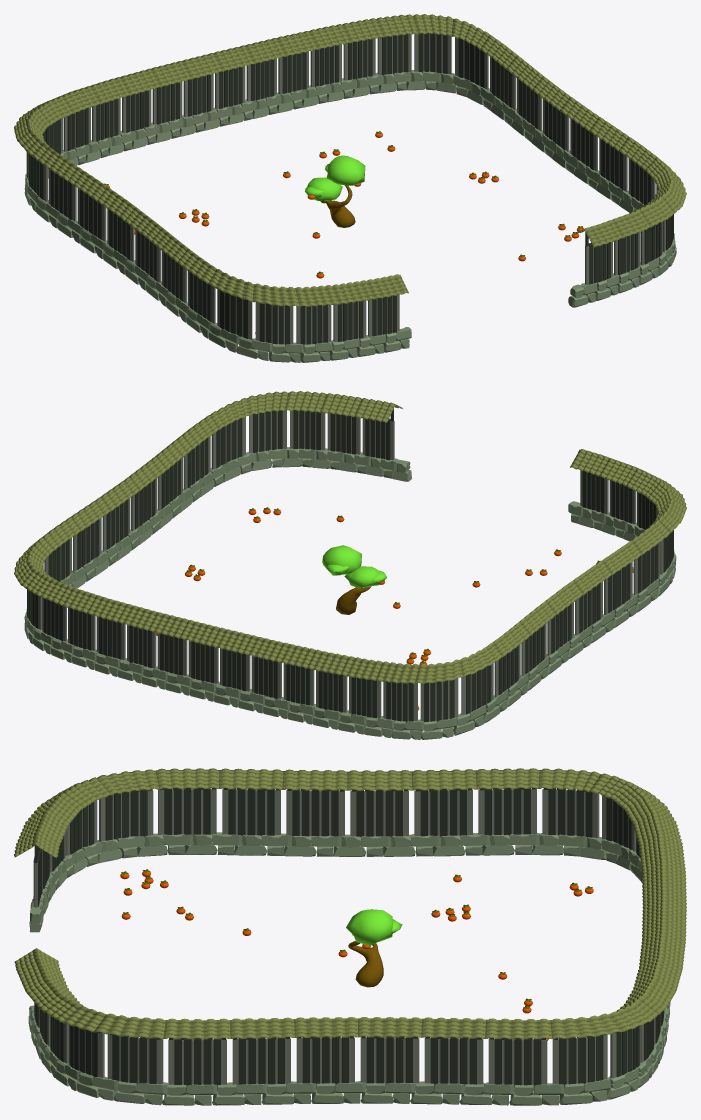
File: FoodM2.fbx
3 renders of one model, top to bottom at view 1: azimuth 30°, elevation 25°; view 2: azimuth 150°, elevation 25°; view 3: azimuth 270°, elevation 25°, orthographic. The views are drawn at different scales.
Visible parts, largest first — view 1: WallLvl2Top.003, RockWallbase.002, BonsaiM2, Persimmons; view 2: WallLvl2Top.003, RockWallbase.002, BonsaiM2, Persimmons; view 3: WallLvl2Top.003, RockWallbase.002, BonsaiM2, Persimmons.
Part boxes in pixels (box(x1,y1,x2,y2)): WallLvl2Top.003: box(14, 14, 686, 348); RockWallbase.002: box(24, 70, 676, 362); BonsaiM2: box(305, 155, 365, 227); Persimmons: box(104, 131, 583, 333); WallLvl2Top.003: box(14, 391, 686, 721); RockWallbase.002: box(24, 447, 676, 739); BonsaiM2: box(322, 545, 386, 614); Persimmons: box(156, 507, 633, 710); WallLvl2Top.003: box(14, 768, 686, 1090); RockWallbase.002: box(28, 832, 670, 1105); BonsaiM2: box(346, 909, 402, 987); Persimmons: box(120, 869, 593, 1040).
Bounding box in the file's own units: 269 × 43.76 × 291.
